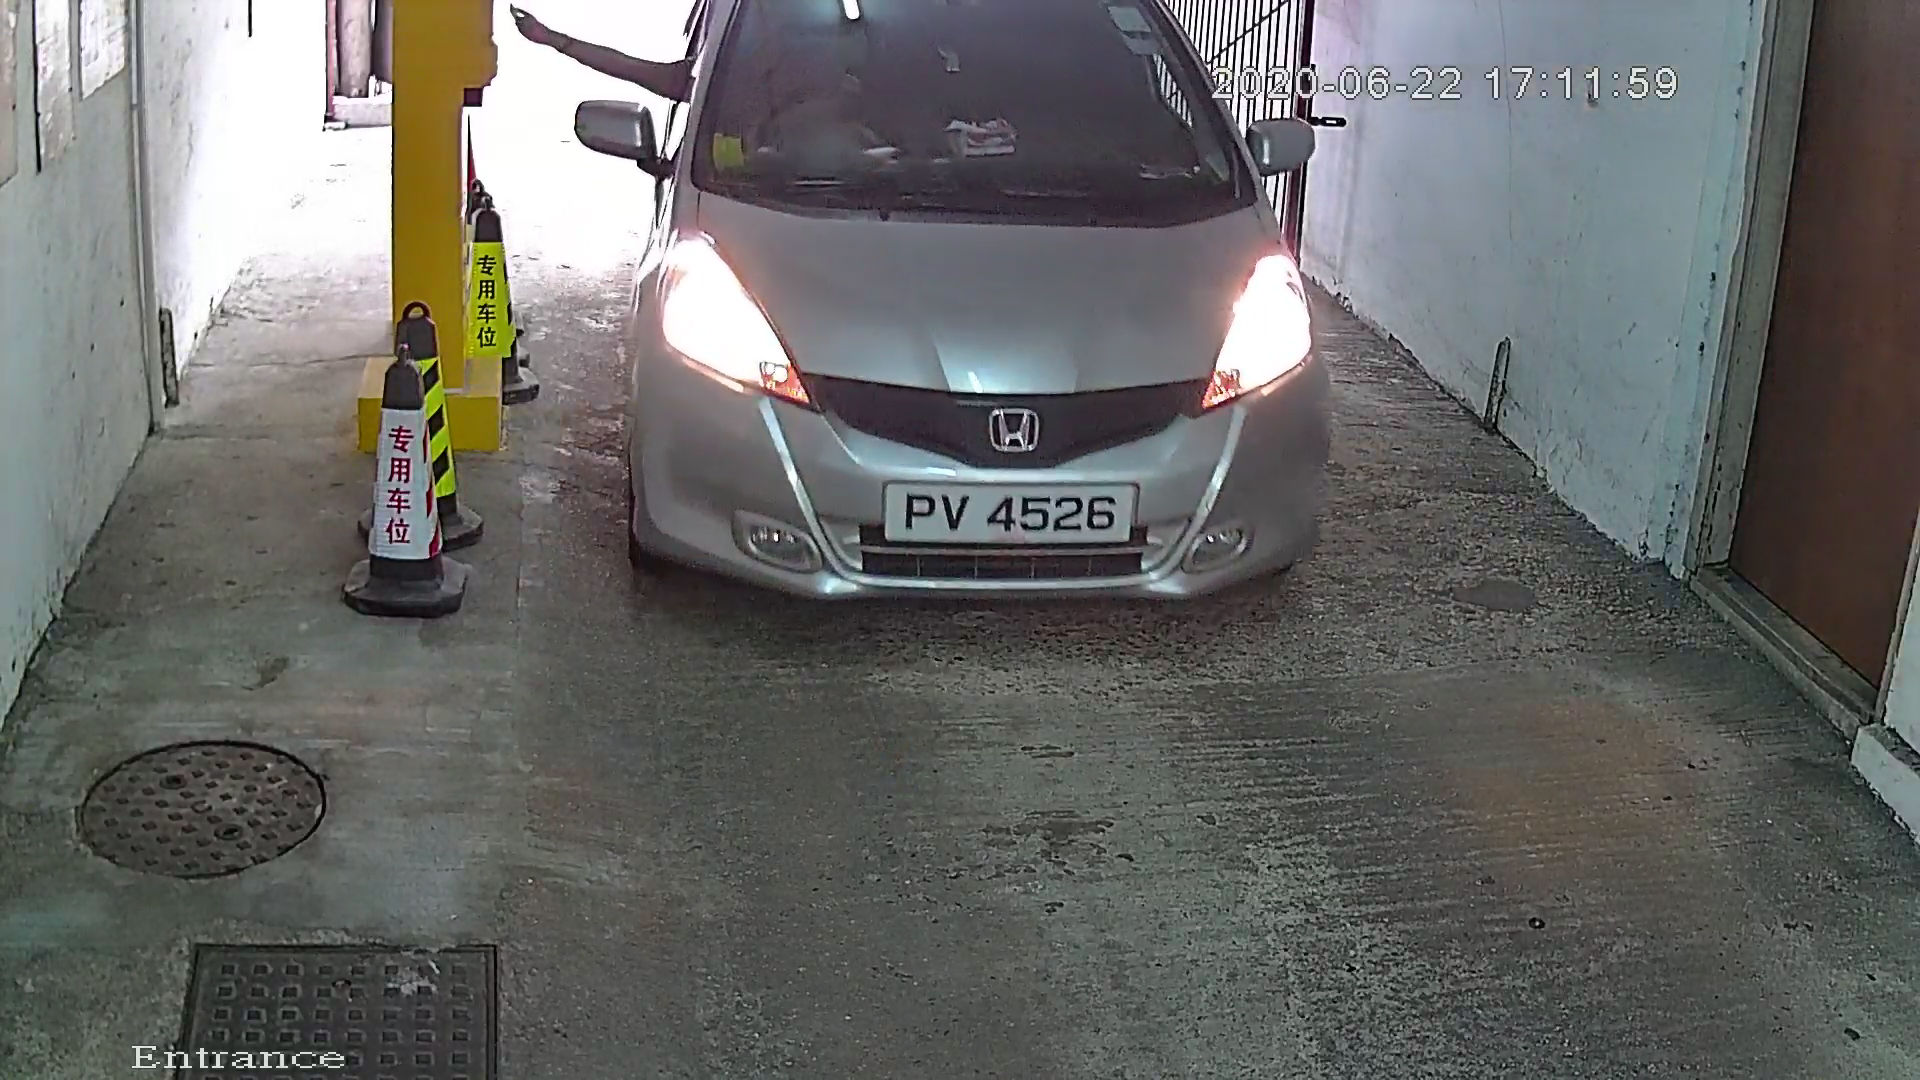privatecar: (541, 1, 1390, 692)
